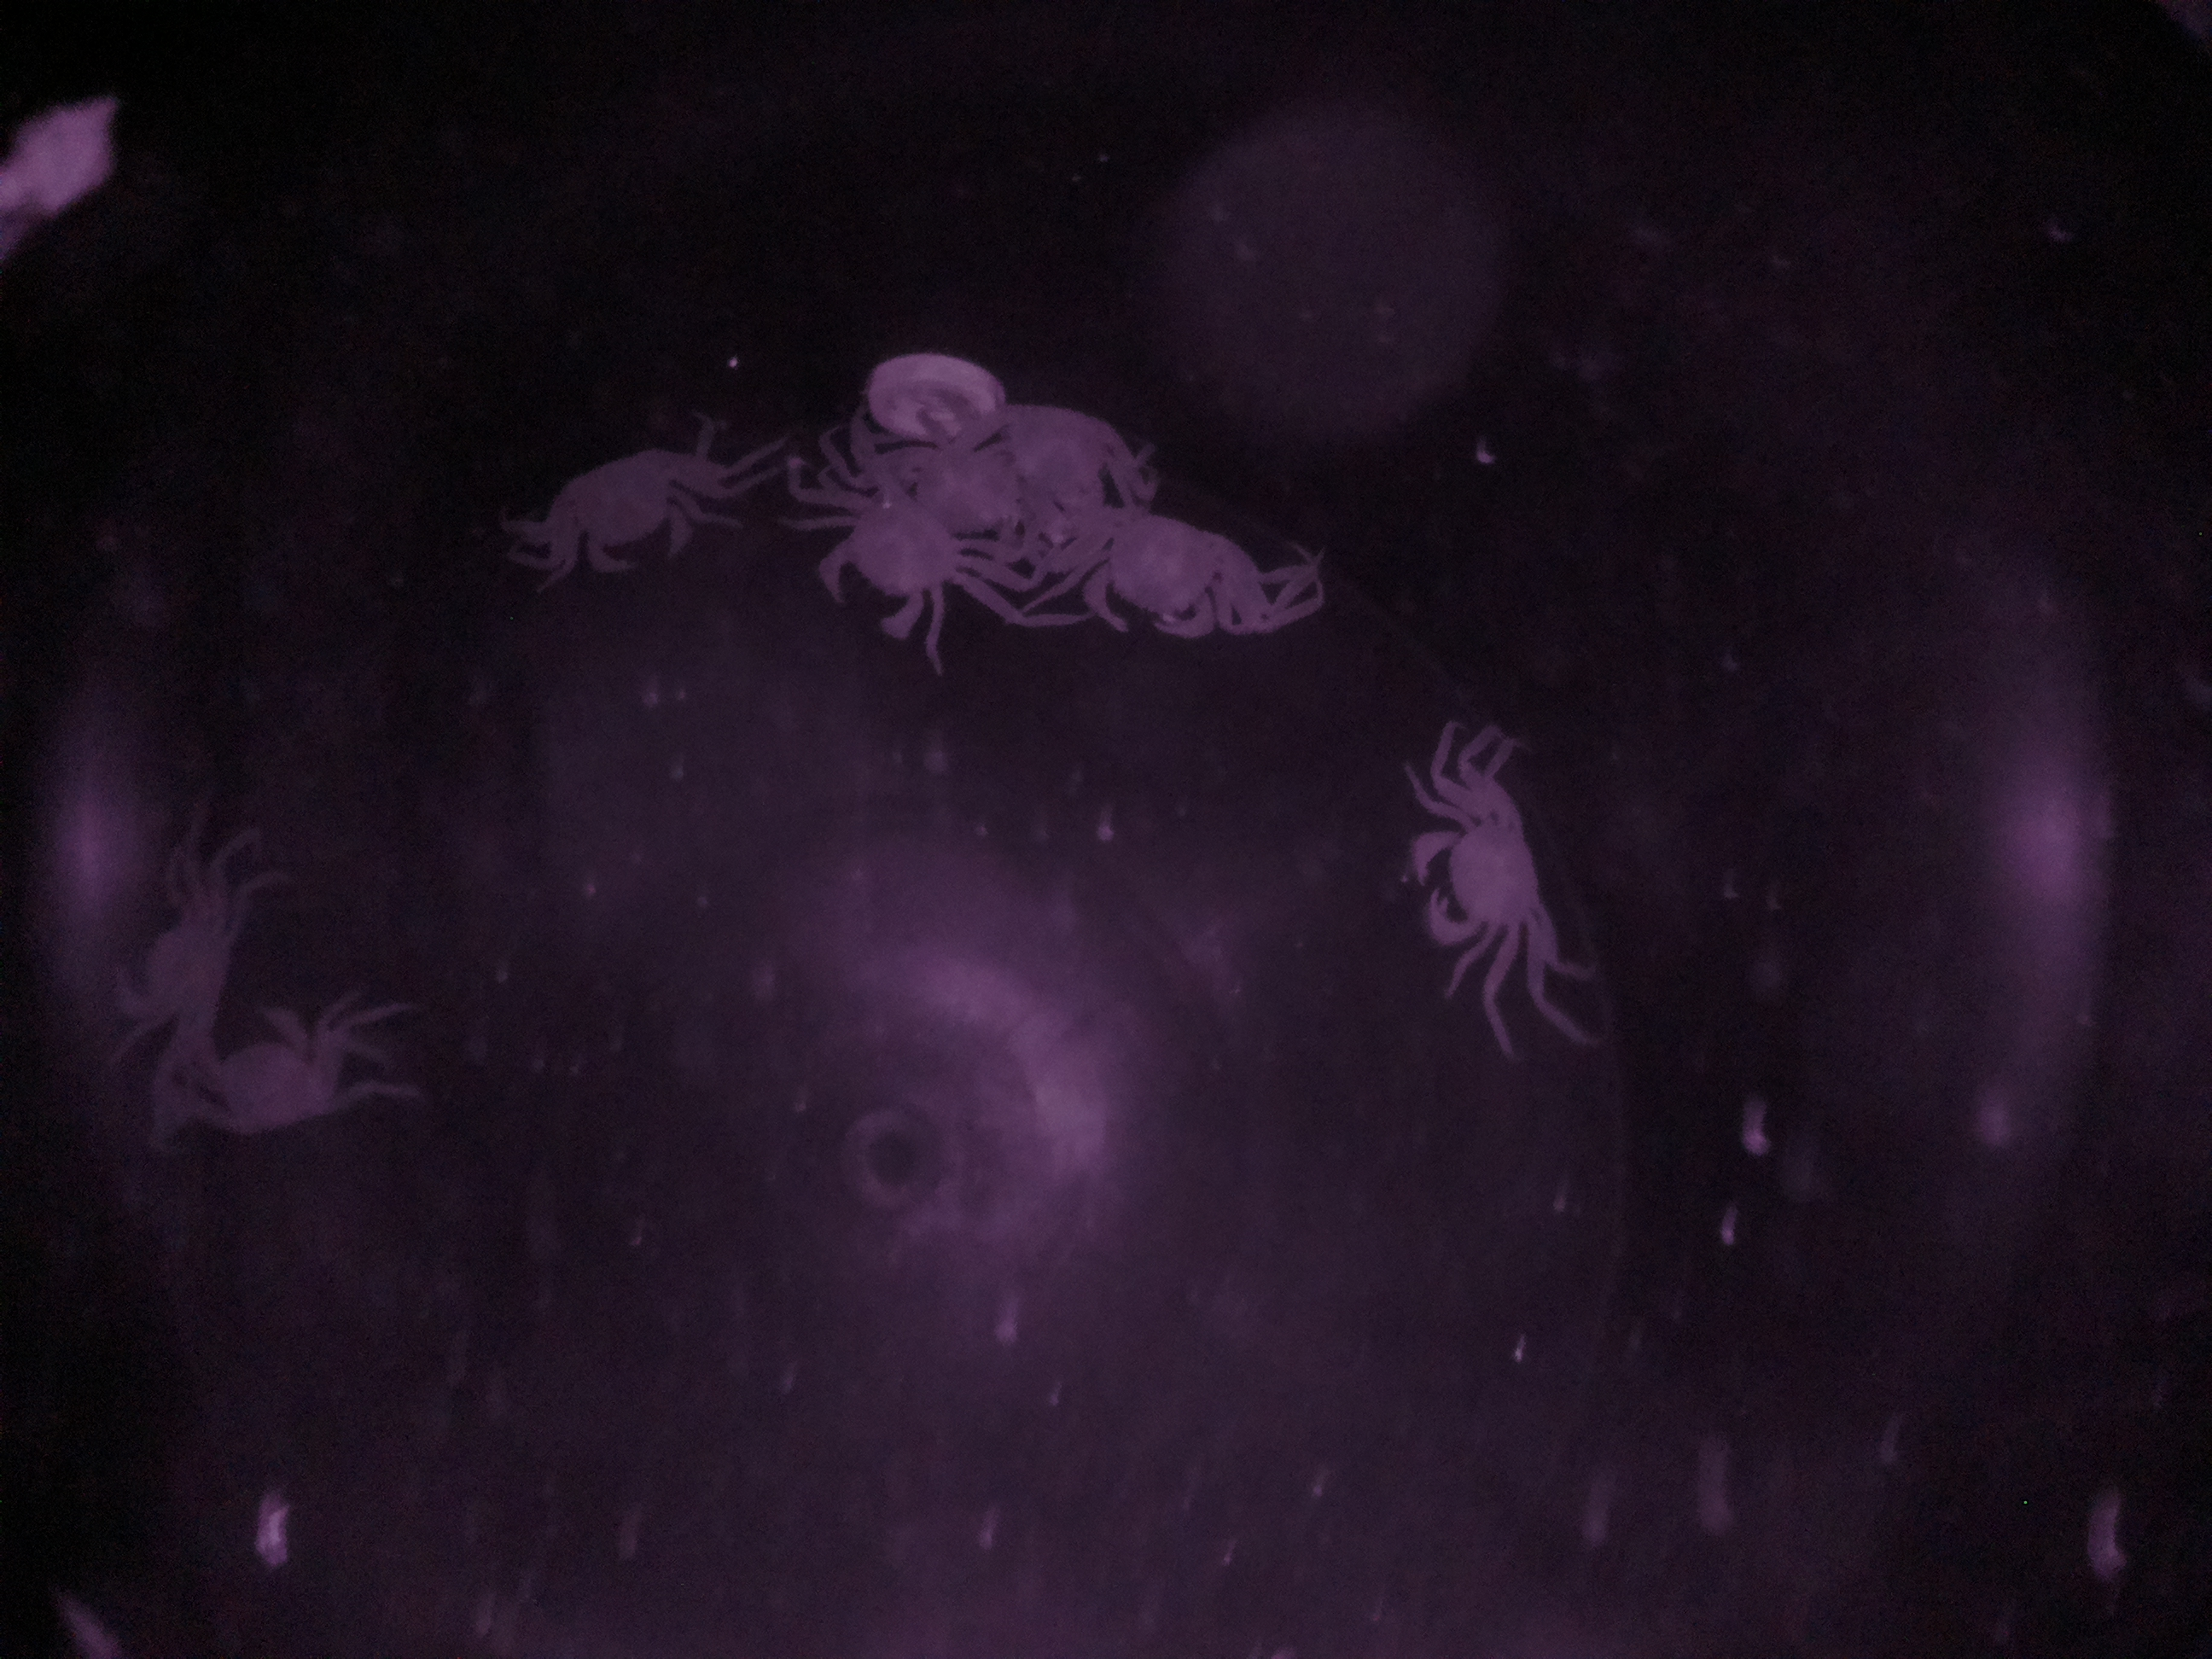Crab: (1385, 760, 1575, 1012), (801, 458, 996, 676), (529, 418, 744, 587)
